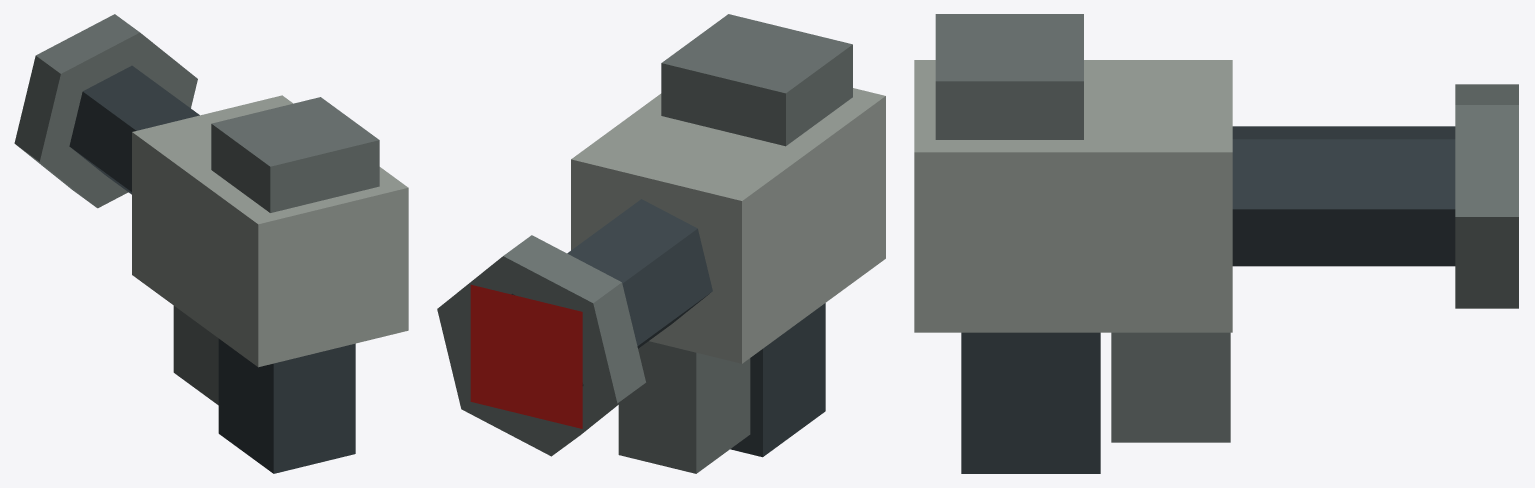
The picture shows the model from 3 angles, left to right: view 1: azimuth 30°, elevation 25°; view 2: azimuth 150°, elevation 25°; view 3: azimuth 270°, elevation 25°; orthographic projection. The views are drawn at different scales.
Parts seen in each view (by area): view 1: mount; view 2: mount; view 3: mount.
Part boxes in pixels (x1,y1,x2,y2): mount: [14, 14, 408, 473]; mount: [437, 14, 885, 473]; mount: [914, 14, 1518, 473].
Size of the model in its own units: 4.35 by 8.34 by 11.43.
